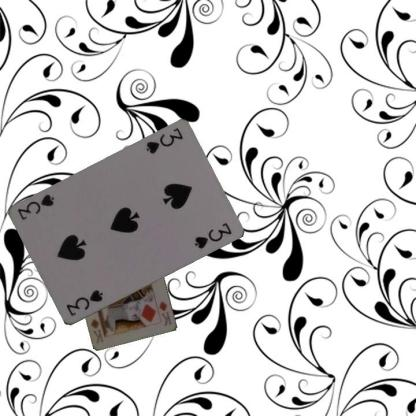3s: (64, 287, 106, 318), (143, 125, 184, 156)
Kd: (156, 299, 173, 327)
